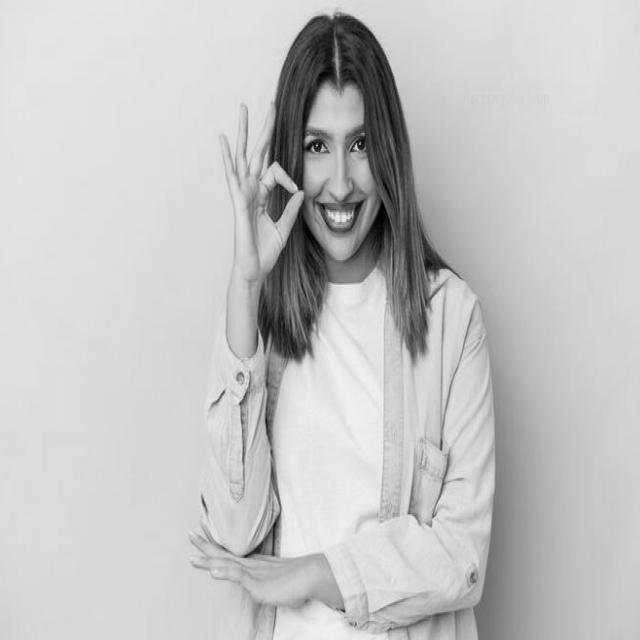perfect: (214, 97, 308, 293)
